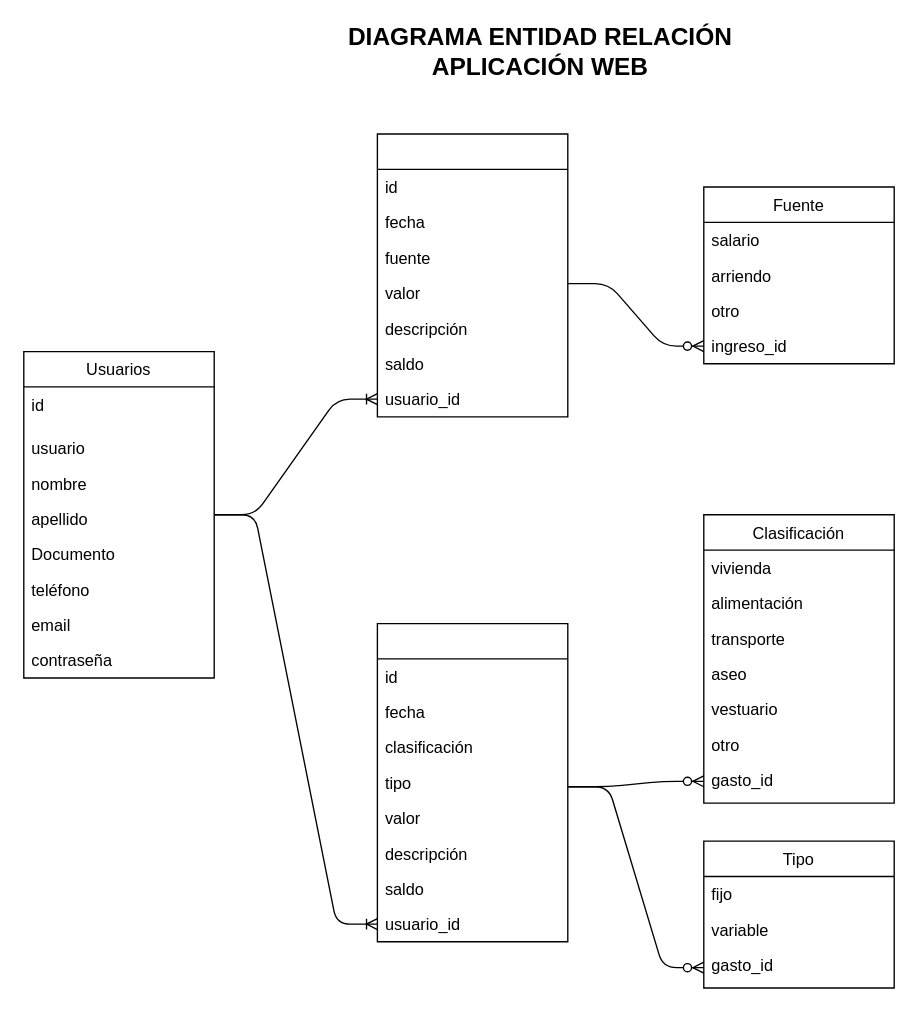
The diagram is 918 pixels wide and 1016 high, and some of its shapes have lost their labels. Each missing label, with the box of its shape:
Gastos: (376, 622, 568, 942)
Ingreso: (376, 133, 568, 417)
